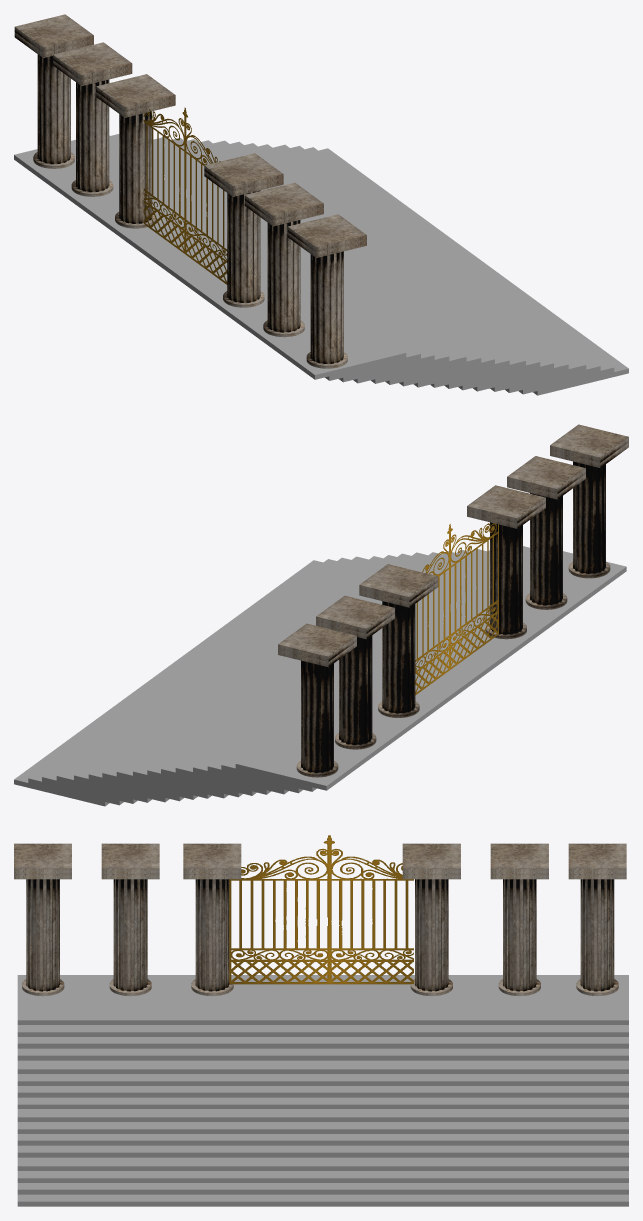
Rendered from gate.fbx.
3 views of the same model, one above another, from view 1: azimuth 30°, elevation 25°; view 2: azimuth 150°, elevation 25°; view 3: azimuth 270°, elevation 25° (orthographic).
Parts seen in each view (by area): view 1: pCube1, pasted__pCube110, pasted__pCube112, pasted__pCube109, pasted__pCube107, pasted__pCube108, pasted__pCube111, pPlane1; view 2: pCube1, pasted__pCube111, pasted__pCube107, pasted__pCube110, pasted__pCube112, pasted__pCube109, pasted__pCube108, pPlane1; view 3: pCube1, pPlane1, pasted__pCube109, pasted__pCube111, pasted__pCube108, pasted__pCube112, pasted__pCube107, pasted__pCube110.
Part boxes in pixels (<box>): pCube1: <box>14,134,628,395</box>; pasted__pCube110: <box>287,214,366,368</box>; pasted__pCube112: <box>53,42,132,196</box>; pasted__pCube109: <box>244,182,323,337</box>; pasted__pCube107: <box>96,74,175,228</box>; pasted__pCube108: <box>204,153,283,307</box>; pasted__pCube111: <box>14,14,93,168</box>; pPlane1: <box>143,107,227,284</box>; pCube1: <box>14,546,626,806</box>; pasted__pCube111: <box>278,623,356,777</box>; pasted__pCube107: <box>359,564,438,717</box>; pasted__pCube110: <box>550,424,628,578</box>; pasted__pCube112: <box>316,595,394,749</box>; pasted__pCube109: <box>507,456,585,609</box>; pasted__pCube108: <box>467,485,545,639</box>; pPlane1: <box>415,523,498,695</box>; pCube1: <box>17,975,628,1206</box>; pPlane1: <box>229,835,413,984</box>; pasted__pCube109: <box>101,843,159,996</box>; pasted__pCube111: <box>568,843,626,996</box>; pasted__pCube108: <box>183,843,241,996</box>; pasted__pCube112: <box>490,843,548,996</box>; pasted__pCube107: <box>402,843,460,996</box>; pasted__pCube110: <box>14,843,71,996</box>.
Bounding box in the file's own units: 68.79 × 46.8 × 115.
